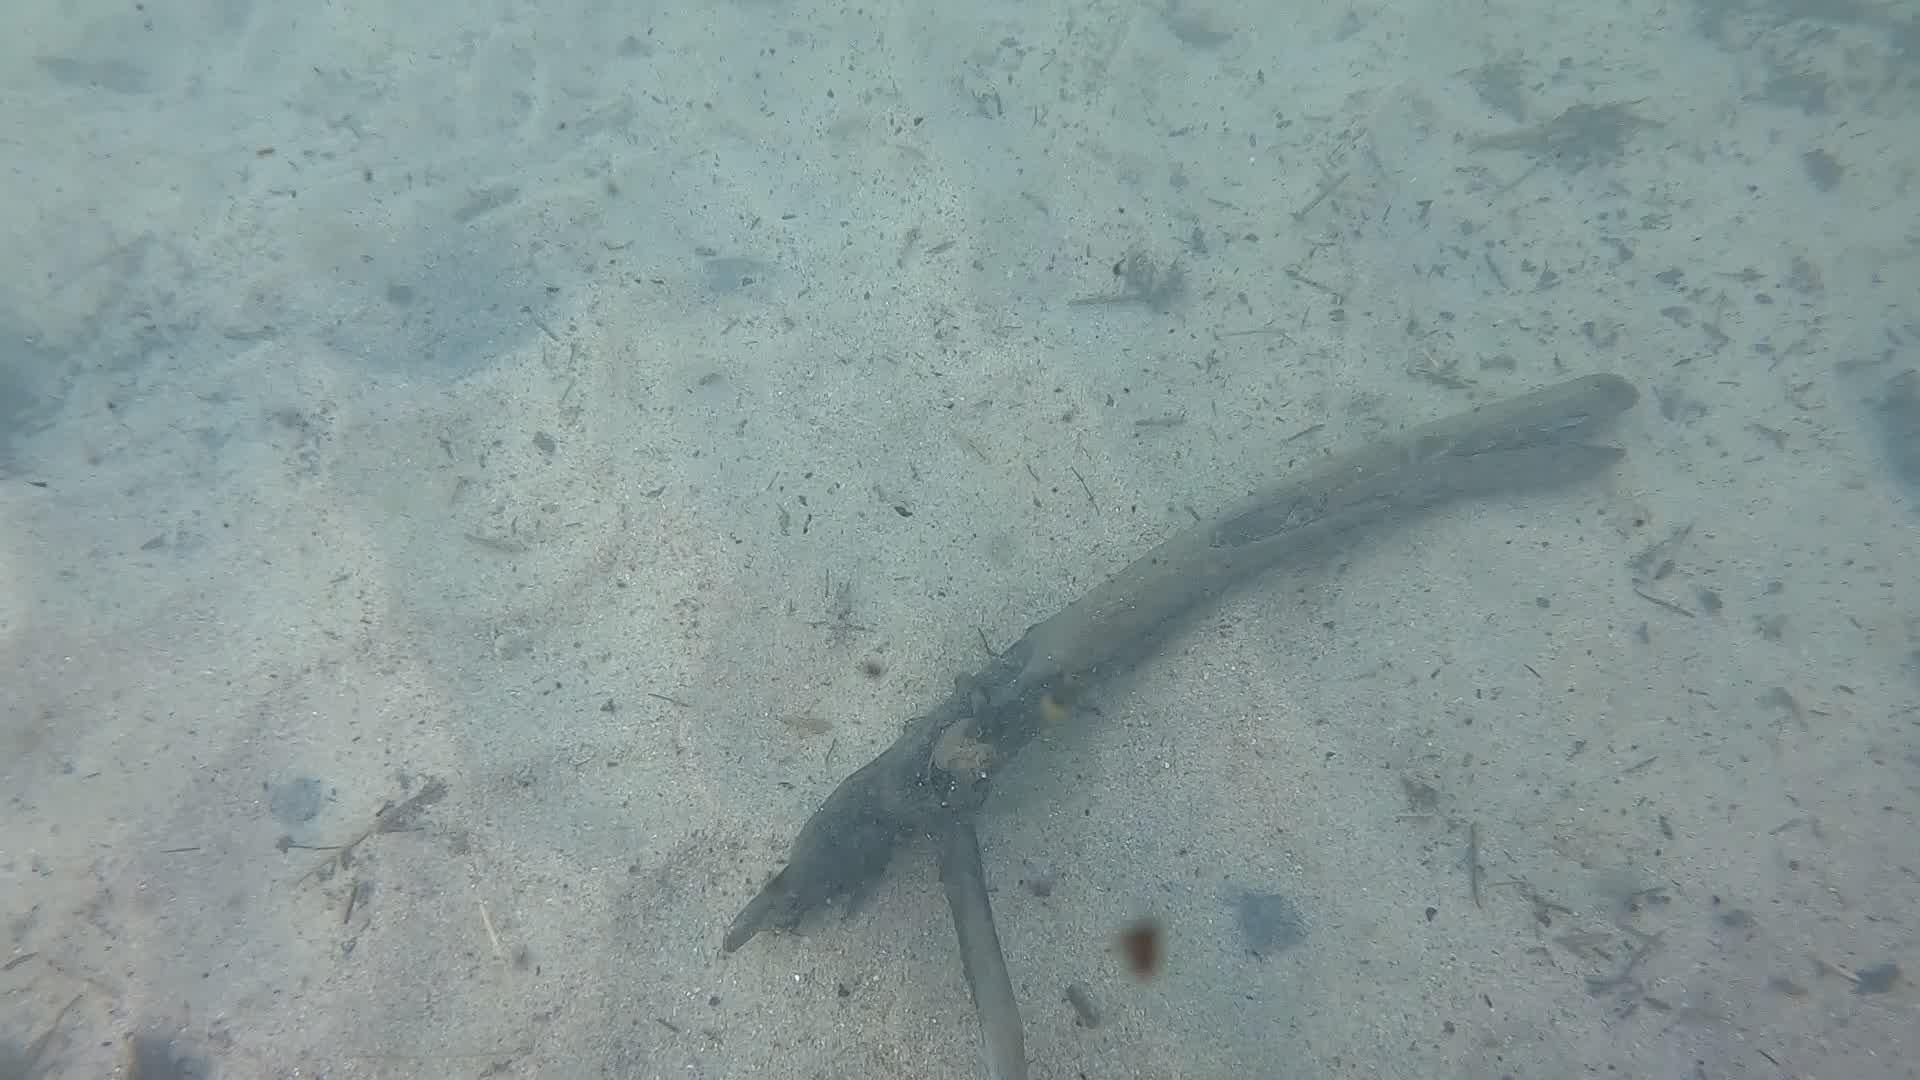wood: (720, 371, 1640, 1080)
